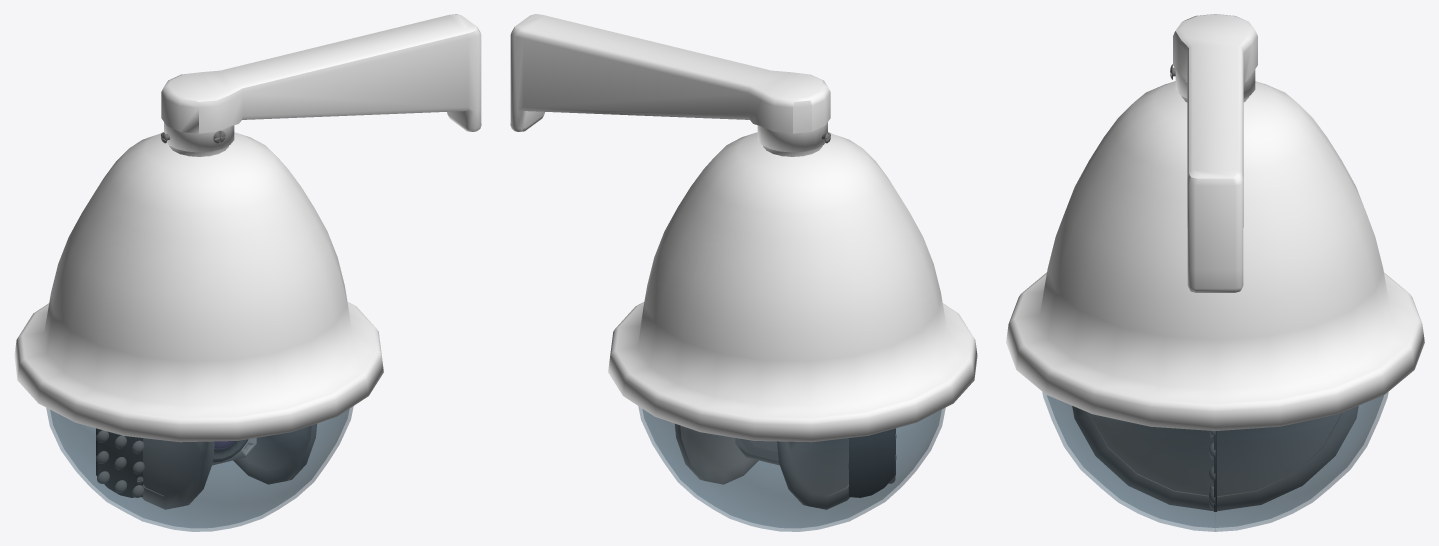
Rendered from ball_camera1.fbx.
3 views of the same model, side by side, from view 1: azimuth 30°, elevation 25°; view 2: azimuth 150°, elevation 25°; view 3: azimuth 270°, elevation 25° (orthographic). The views are drawn at different scales.
Visible parts, largest first — view 1: polySurface3, polySurface1_pSphere1, polySurface43_polySurface4, polySurface4_polySurface44, pCube8, polySurface22; view 2: polySurface3, polySurface1_pSphere1, polySurface43_polySurface4, polySurface4_polySurface44, pCube8, pCube2; view 3: polySurface3, polySurface1_pSphere1, polySurface4_polySurface44.
Boxes of the visible parts, <box> form: polySurface3: <box>14,14,481,442</box>; polySurface1_pSphere1: <box>46,406,353,531</box>; polySurface43_polySurface4: <box>141,438,214,509</box>; polySurface4_polySurface44: <box>233,424,316,484</box>; pCube8: <box>96,428,142,497</box>; polySurface22: <box>96,430,144,497</box>; polySurface3: <box>510,14,977,442</box>; polySurface1_pSphere1: <box>638,406,945,531</box>; polySurface43_polySurface4: <box>777,438,850,509</box>; polySurface4_polySurface44: <box>675,424,758,484</box>; pCube8: <box>849,428,895,497</box>; pCube2: <box>735,438,779,465</box>; polySurface3: <box>1006,14,1424,430</box>; polySurface1_pSphere1: <box>1042,392,1388,531</box>; polySurface4_polySurface44: <box>1072,406,1358,511</box>.
Bounding box in the file's own units: 29.16 × 27.6 × 21.63.
